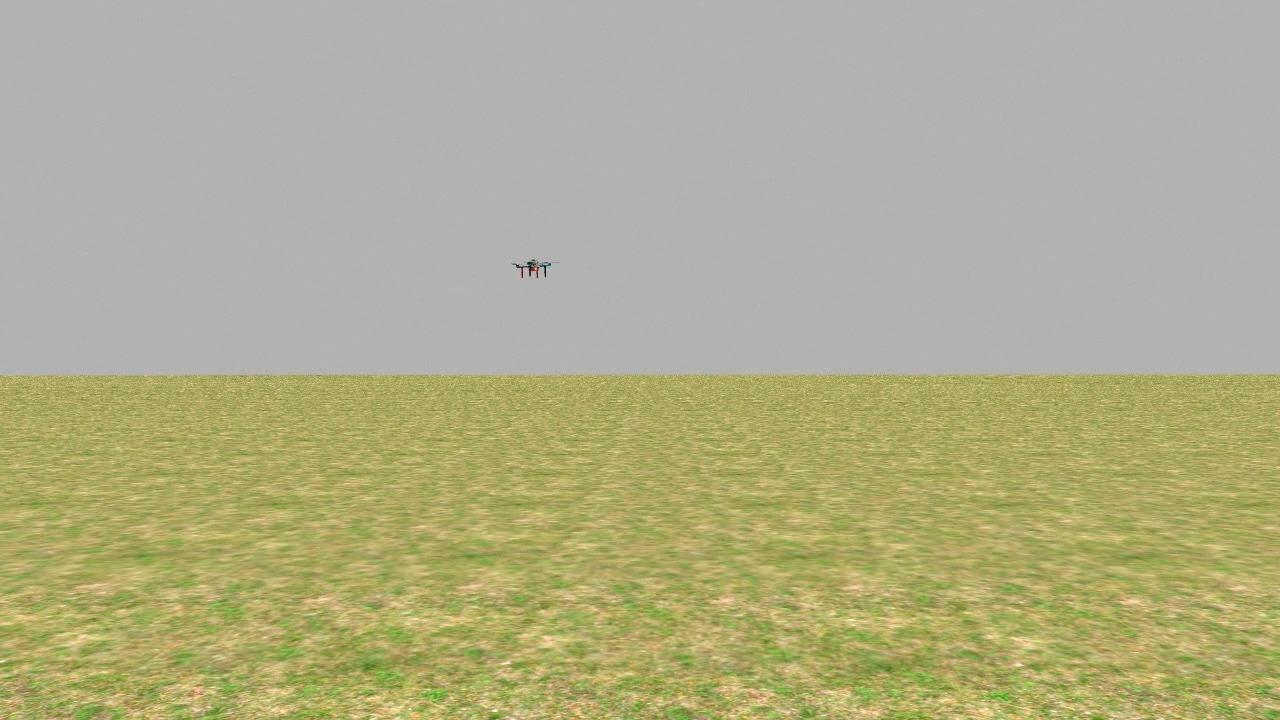UAV: (513, 251, 557, 289)
